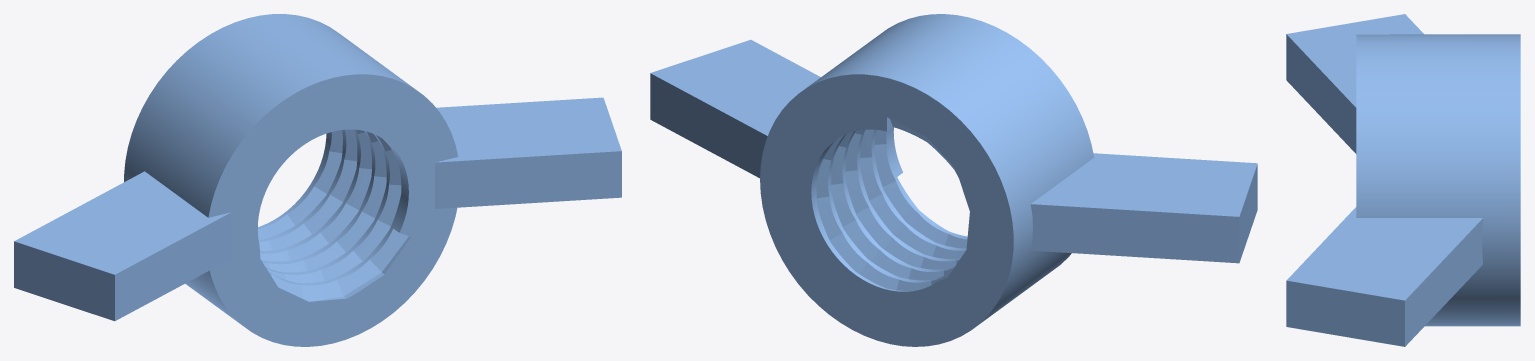
File: threadedhole-wingnut.glb
3 views of the same model, side by side, from view 1: azimuth 30°, elevation 25°; view 2: azimuth 150°, elevation 25°; view 3: azimuth 270°, elevation 25° (orthographic).
Parts seen in each view (by area): view 1: COMPOUND; view 2: COMPOUND; view 3: COMPOUND.
Boxes of the visible parts, bbox=[...] form: COMPOUND: bbox=[14, 14, 621, 346]; COMPOUND: bbox=[650, 14, 1257, 346]; COMPOUND: bbox=[1286, 14, 1520, 346].
Size of the model in its own units: 37.15 by 16 by 12.82.
